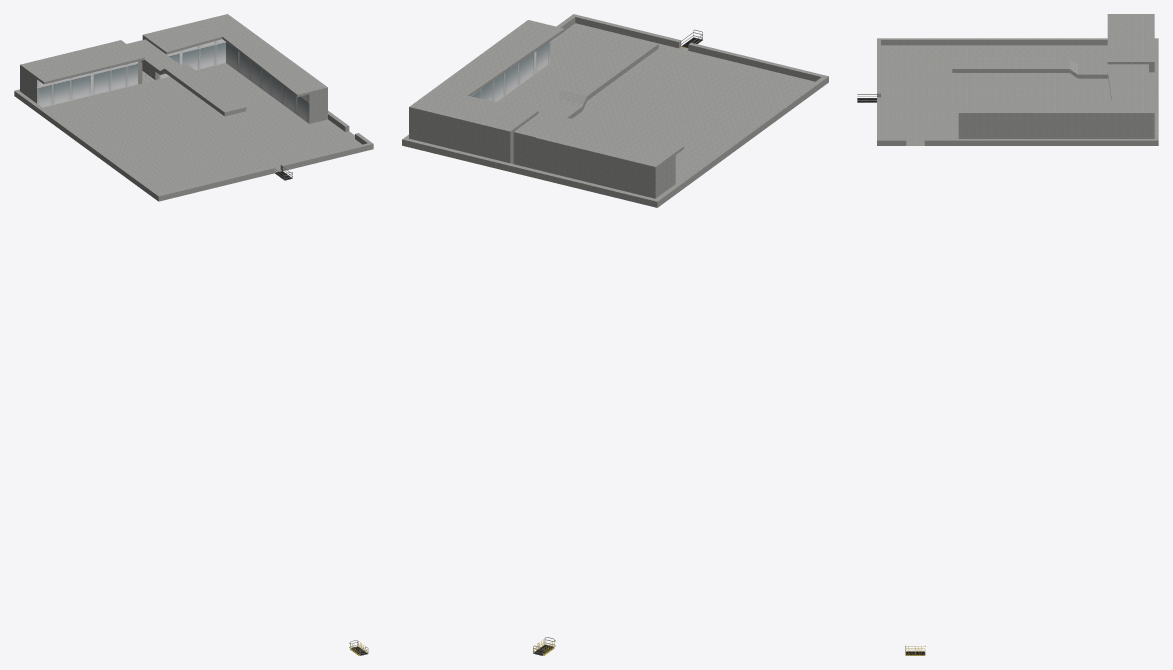
File: TerrazaCompleta.FBX
The picture shows the model from 3 angles, left to right: view 1: azimuth 30°, elevation 25°; view 2: azimuth 150°, elevation 25°; view 3: azimuth 270°, elevation 25°; orthographic projection. The views are drawn at different scales.
Visible parts, largest first — view 1: Object038; view 2: Object038; view 3: Object038.
Boxes of the visible parts, left/top/right/bottom form: Object038: left=14, top=14, right=373, bottom=201; Object038: left=402, top=14, right=828, bottom=207; Object038: left=877, top=14, right=1158, bottom=145.
Size of the model in its own units: 1770 by 4159 by 2105.
